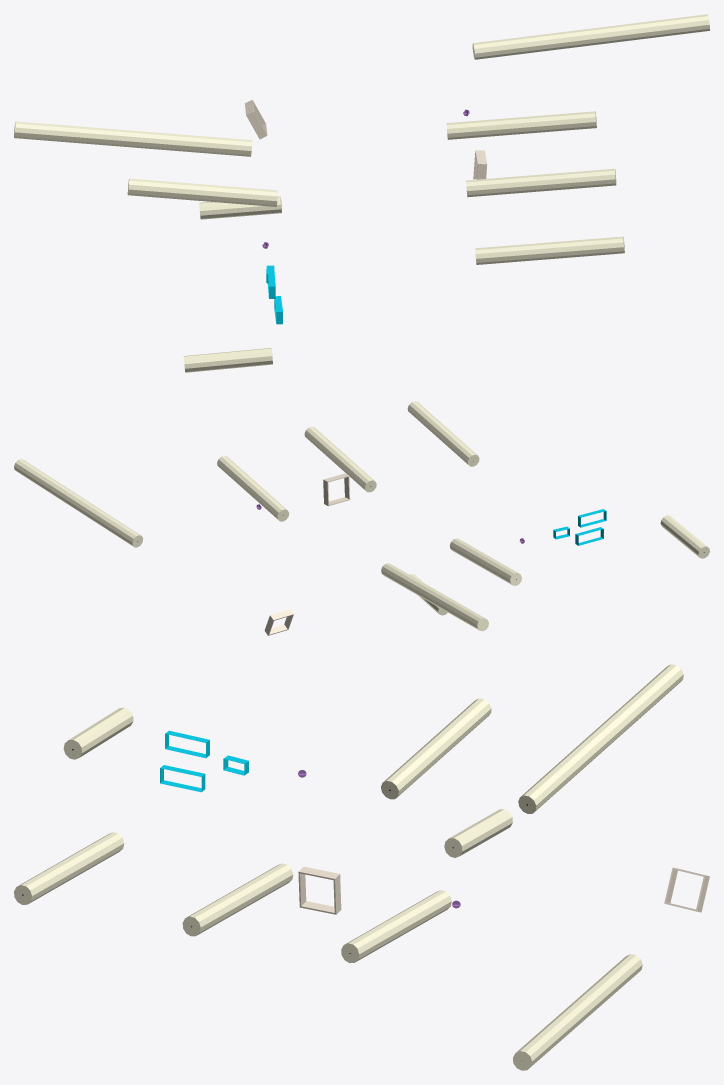
Rendered from tile_78.glb.
3 views of the same model, one above another, from view 1: azimuth 30°, elevation 25°; view 2: azimuth 150°, elevation 25°; view 3: azimuth 270°, elevation 25° (orthographic). The views are drawn at different scales.
Bounding box in the file's own units: 11.73 × 1.22 × 8.23.
